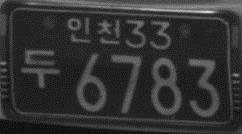3: (187, 58, 221, 117), (124, 18, 146, 49), (148, 20, 171, 49)
6: (75, 53, 107, 112)
7: (110, 54, 141, 112)
8: (151, 57, 182, 115)
두: (20, 48, 60, 88)
인천_O: (66, 15, 121, 45)
